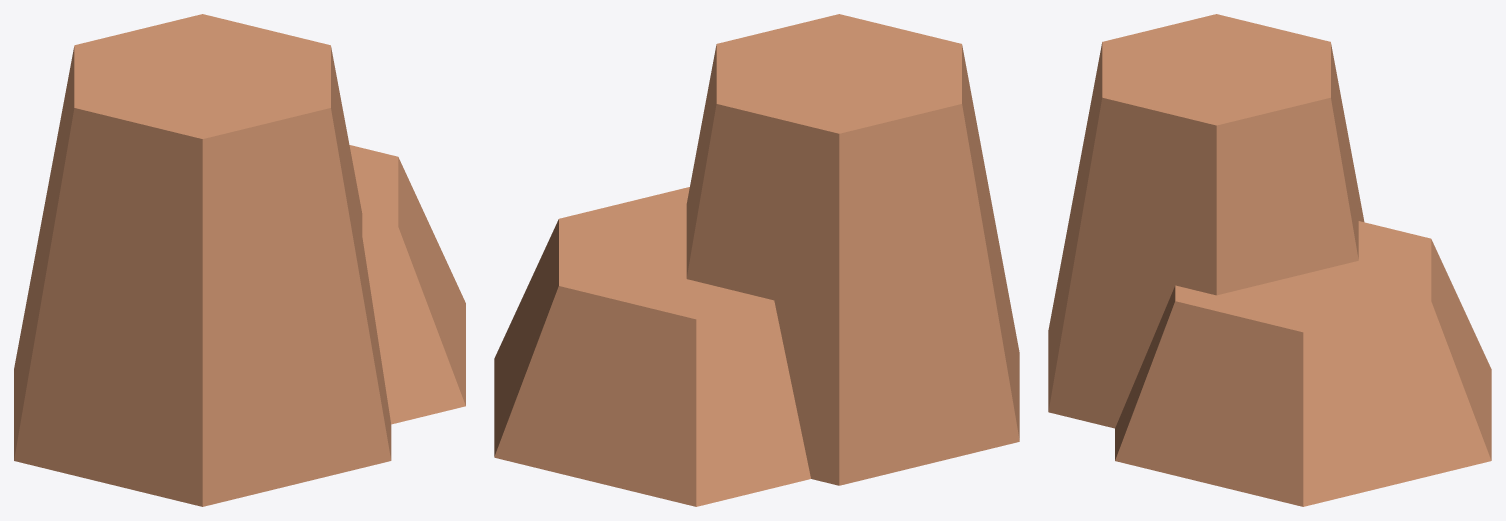
File: resource-stone.obj
The picture shows the model from 3 angles, left to right: view 1: azimuth 30°, elevation 25°; view 2: azimuth 150°, elevation 25°; view 3: azimuth 270°, elevation 25°; orthographic projection. The views are drawn at different scales.
Bounding box in the file's own units: 0.1653 × 0.1068 × 0.1422.
